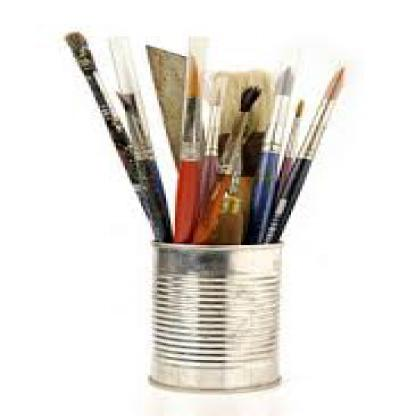METAL: (148, 239, 282, 390), (118, 92, 152, 159), (298, 99, 330, 158), (257, 91, 286, 153), (180, 97, 198, 159)
